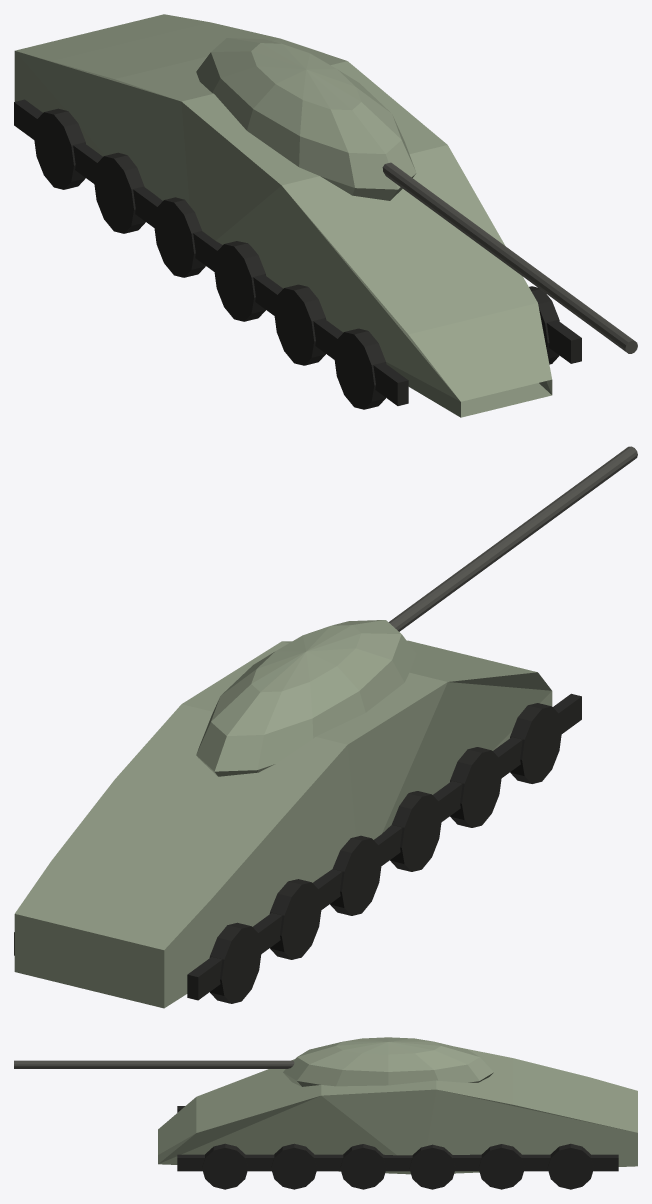
File: patriot.glb
The picture shows the model from 3 angles, top to bottom: view 1: azimuth 30°, elevation 25°; view 2: azimuth 150°, elevation 25°; view 3: azimuth 270°, elevation 25°; orthographic projection. The views are drawn at different scales.
Parts seen in each view (by area): view 1: Hull, Turret, Track_L, Gun, Wheel_L_02, Wheel_L_01, Wheel_L_06, Wheel_L_03, Wheel_L_05, Wheel_L_04, Track_R, Wheel_R_01; view 2: Hull, Turret, Track_L, Gun, Wheel_L_01, Wheel_L_02, Wheel_L_06, Wheel_L_05, Wheel_L_03, Wheel_L_04; view 3: Hull, Turret, Track_R, Gun, Wheel_R_01, Wheel_R_02, Wheel_R_06, Wheel_R_05, Wheel_R_03, Wheel_R_04.
Part boxes in pixels (x1,y1,x2,y2): Hull: [14, 14, 552, 417]; Turret: [196, 38, 416, 200]; Track_L: [14, 99, 408, 405]; Gun: [382, 162, 637, 353]; Wheel_L_02: [274, 284, 326, 365]; Wheel_L_01: [334, 328, 386, 409]; Wheel_L_06: [34, 108, 85, 189]; Wheel_L_03: [214, 241, 265, 321]; Wheel_L_05: [94, 152, 145, 233]; Wheel_L_04: [154, 197, 205, 277]; Track_R: [547, 320, 581, 363]; Wheel_R_01: [529, 286, 559, 364]; Hull: [14, 640, 552, 1008]; Turret: [196, 620, 416, 776]; Track_L: [187, 693, 581, 1000]; Gun: [388, 446, 637, 631]; Wheel_L_01: [510, 703, 561, 783]; Wheel_L_02: [450, 747, 501, 827]; Wheel_L_06: [209, 922, 261, 1003]; Wheel_L_05: [269, 879, 321, 959]; Wheel_L_03: [390, 791, 441, 871]; Wheel_L_04: [330, 835, 381, 915]; Hull: [158, 1047, 637, 1174]; Turret: [283, 1037, 493, 1086]; Track_R: [177, 1154, 618, 1171]; Gun: [14, 1060, 294, 1068]; Wheel_R_01: [202, 1143, 248, 1189]; Wheel_R_02: [271, 1143, 317, 1189]; Wheel_R_06: [547, 1143, 593, 1189]; Wheel_R_05: [478, 1144, 524, 1189]; Wheel_R_03: [340, 1144, 386, 1189]; Wheel_R_04: [409, 1144, 455, 1189].
Bounding box in the file's own units: 2.6 × 2.79 × 13.
